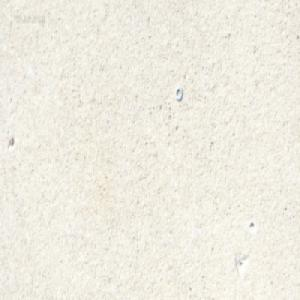Washer: (175, 86, 182, 101)
